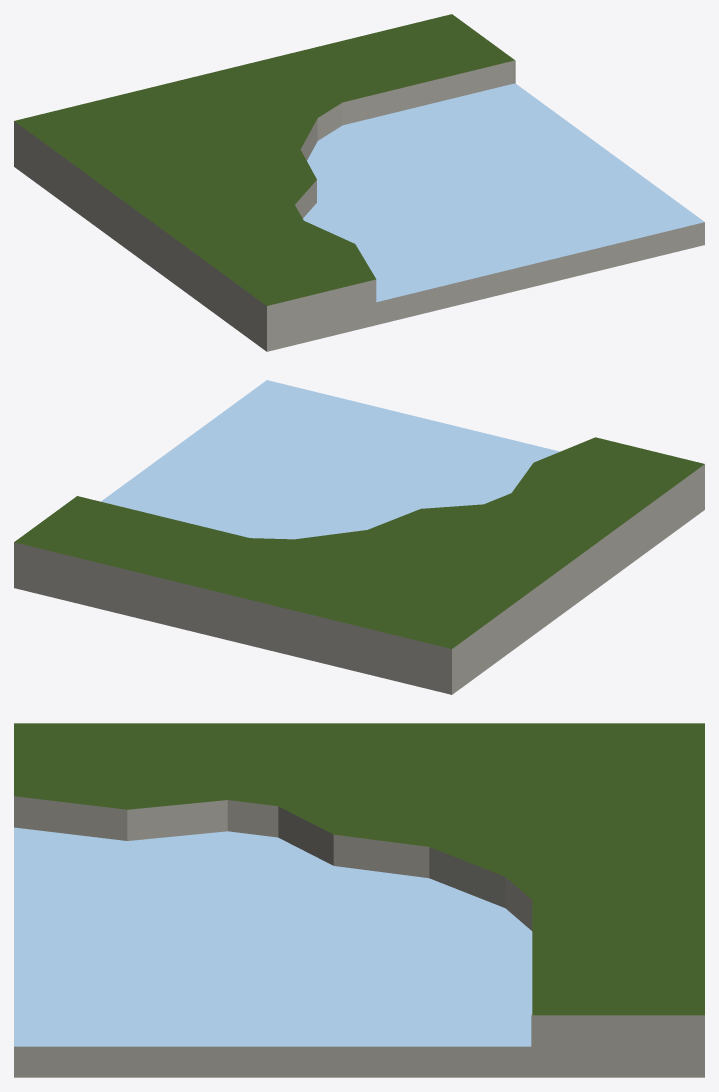
File: Terrain_Modular_Tiles_Grass_Rock_Water_Edge_Corner_Outer_02.fbx
3 views of the same model, one above another, from view 1: azimuth 30°, elevation 25°; view 2: azimuth 150°, elevation 25°; view 3: azimuth 270°, elevation 25° (orthographic). The views are drawn at different scales.
Parts seen in each view (by area): view 1: Terrain_Modular_Tiles_Grass_Rock_Water_Edge_Corner_Outer_02; view 2: Terrain_Modular_Tiles_Grass_Rock_Water_Edge_Corner_Outer_02; view 3: Terrain_Modular_Tiles_Grass_Rock_Water_Edge_Corner_Outer_02.
Boxes of the visible parts, x1,y1,x2,y2 form: Terrain_Modular_Tiles_Grass_Rock_Water_Edge_Corner_Outer_02: (14, 14, 704, 351); Terrain_Modular_Tiles_Grass_Rock_Water_Edge_Corner_Outer_02: (14, 380, 704, 694); Terrain_Modular_Tiles_Grass_Rock_Water_Edge_Corner_Outer_02: (14, 723, 704, 1077).
Bounding box in the file's own units: 118 × 11.81 × 118.
